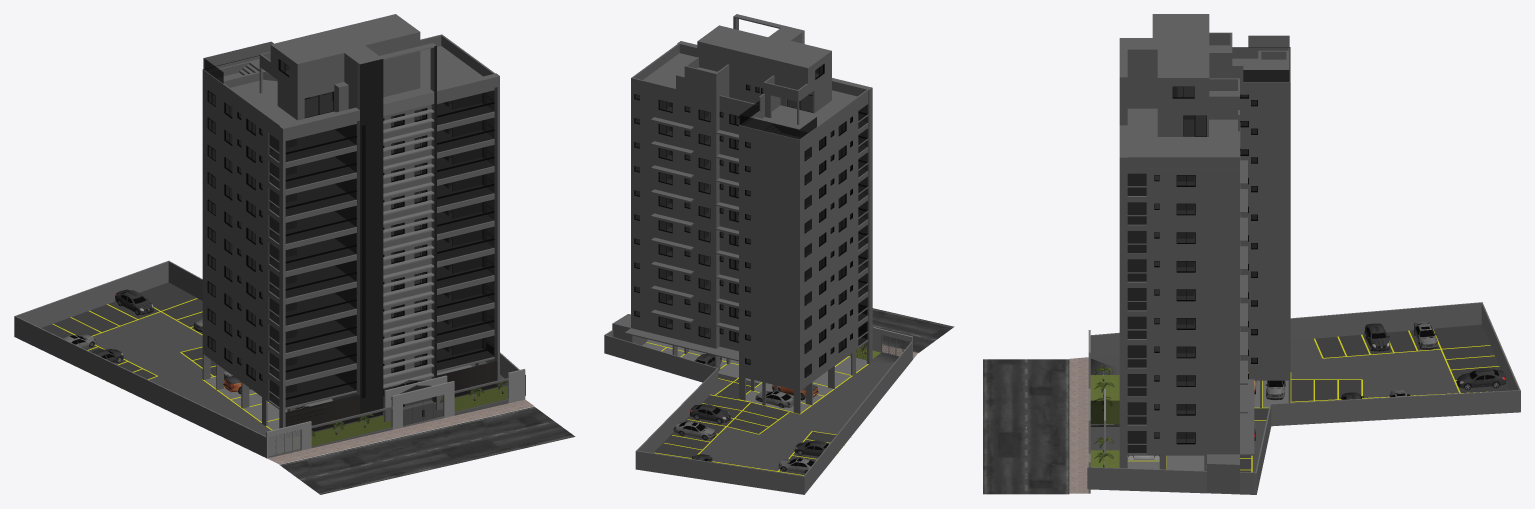
Rendered from 1793821349470_sanzio_-_predio__1_.glb.
3 renders of one model, left to right at view 1: azimuth 30°, elevation 25°; view 2: azimuth 150°, elevation 25°; view 3: azimuth 270°, elevation 25°, orthographic. The views are drawn at different scales.
Visible parts, largest first — view 1: Shape005, Object024_Material #2416_0, Shape026, Object014_Material #53_0, Object019_Material #78_0, Object002_Material #1337_0, Plane002, Layer:P06, Object023_Material #2415_0, Shape018, Plane003, Object004_grama_0 (+50 smaller); view 2: Shape005, Shape026, Object002_Material #1337_0, Plane002, Layer:P06, Shape018, Box040, Object024_Material #2416_0, Layer:P03, Box018, Box019, Shape023 (+13 smaller); view 3: Shape005, Shape026, Object024_Material #2416_0, Object002_Material #1337_0, Plane002, Shape018, Plane003, Layer:P06, Object004_grama_0, Box018, Layer:P03, Box040 (+10 smaller).
Part boxes in pixels (x1=…): Shape005: x1=202, y1=34, x2=499, y2=437; Object024_Material #2416_0: x1=280, y1=406, x2=575, y2=494; Shape026: x1=14, y1=260, x2=525, y2=457; Object014_Material #53_0: x1=360, y1=45, x2=436, y2=419; Object019_Material #78_0: x1=383, y1=46, x2=434, y2=388; Object002_Material #1337_0: x1=92, y1=312, x2=507, y2=457; Plane002: x1=41, y1=282, x2=216, y2=379; Layer:P06: x1=270, y1=33, x2=434, y2=93; Object023_Material #2415_0: x1=285, y1=102, x2=494, y2=399; Shape018: x1=259, y1=62, x2=434, y2=120; Plane003: x1=267, y1=399, x2=533, y2=464; Object004_grama_0: x1=291, y1=385, x2=507, y2=446; Shape005: x1=612, y1=41, x2=872, y2=413; Shape026: x1=604, y1=330, x2=912, y2=494; Object002_Material #1337_0: x1=647, y1=339, x2=898, y2=470; Plane002: x1=653, y1=374, x2=835, y2=475; Layer:P06: x1=697, y1=17, x2=831, y2=93; Shape018: x1=676, y1=75, x2=831, y2=124; Box040: x1=642, y1=339, x2=868, y2=414; Object024_Material #2416_0: x1=872, y1=308, x2=954, y2=352; Layer:P03: x1=684, y1=57, x2=807, y2=100; Box018: x1=697, y1=25, x2=767, y2=53; Box019: x1=767, y1=41, x2=831, y2=69; Shape023: x1=739, y1=101, x2=816, y2=139; Shape005: x1=1119, y1=47, x2=1290, y2=493; Shape026: x1=1087, y1=302, x2=1520, y2=494; Object024_Material #2416_0: x1=983, y1=359, x2=1069, y2=494; Object002_Material #1337_0: x1=1090, y1=339, x2=1458, y2=472; Plane002: x1=1240, y1=324, x2=1509, y2=472; Shape018: x1=1119, y1=65, x2=1243, y2=136; Plane003: x1=1069, y1=357, x2=1088, y2=493; Layer:P06: x1=1119, y1=51, x2=1209, y2=108; Object004_grama_0: x1=1090, y1=375, x2=1119, y2=467; Box018: x1=1157, y1=49, x2=1209, y2=79; Layer:P03: x1=1209, y1=32, x2=1239, y2=108; Box040: x1=1127, y1=380, x2=1288, y2=470.
Bounding box in the file's own units: 1591 × 1645 × 2113.
41 materials, 9 textured.
